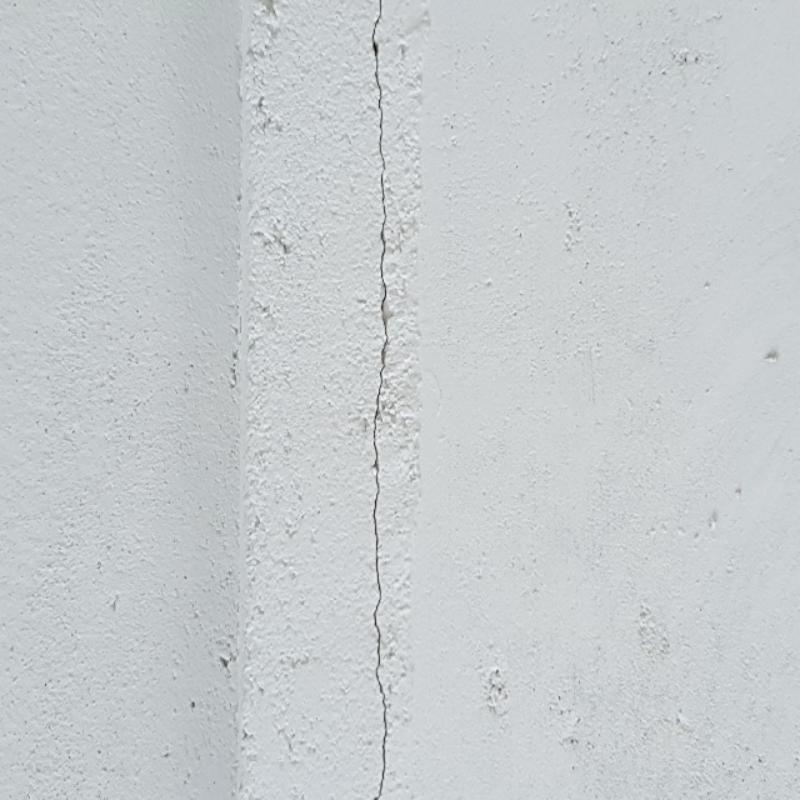pothole: (365, 2, 395, 791)
